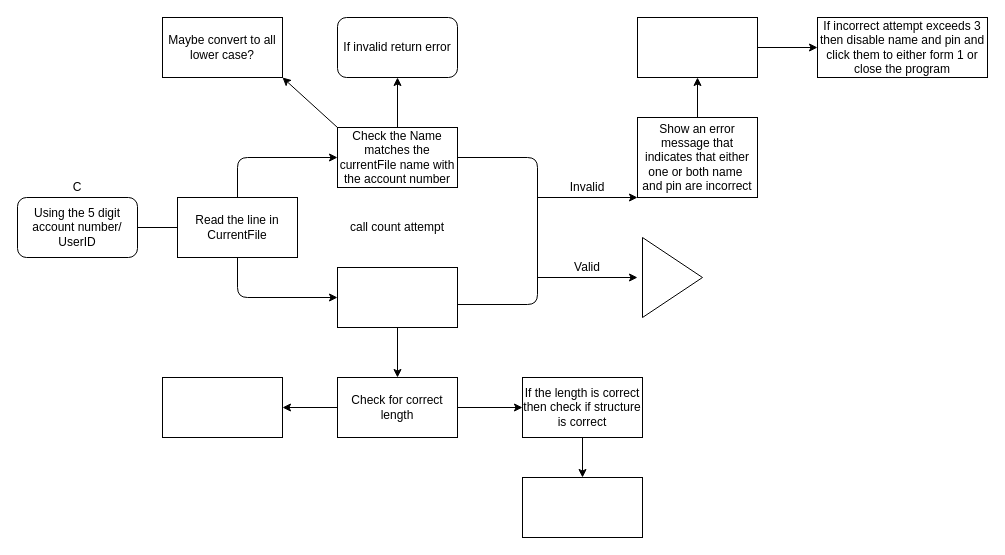
This 1005x555 diagram has some shape labels left out. Each missing label, with the centre of its shape:
"Clear both name and pin text boxes and set focus back to name" belongs at (x=697, y=47).
"Form 3" belongs at (x=672, y=277).
"If invalid then return error" belongs at (x=222, y=407).
"Pin" belongs at (x=397, y=297).
"Try-catch statement to catch for any odd symbols used" belongs at (x=582, y=507).
